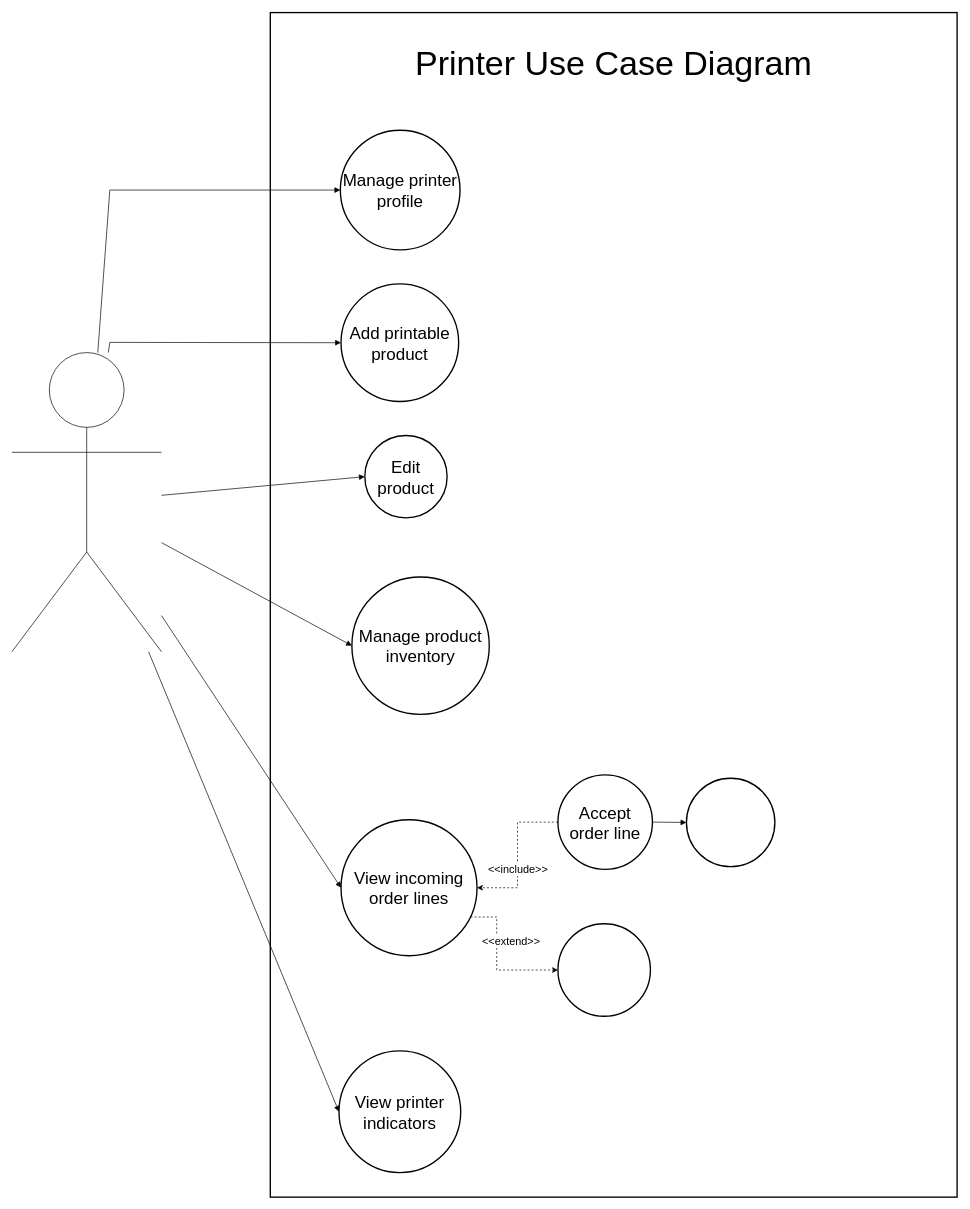
This 970x1209 diagram has some shape labels left out. Each missing label, with the box of its shape:
Change order status: (685, 777, 775, 867)
Printer: (11, 352, 162, 652)
Reject order line: (557, 923, 651, 1017)
